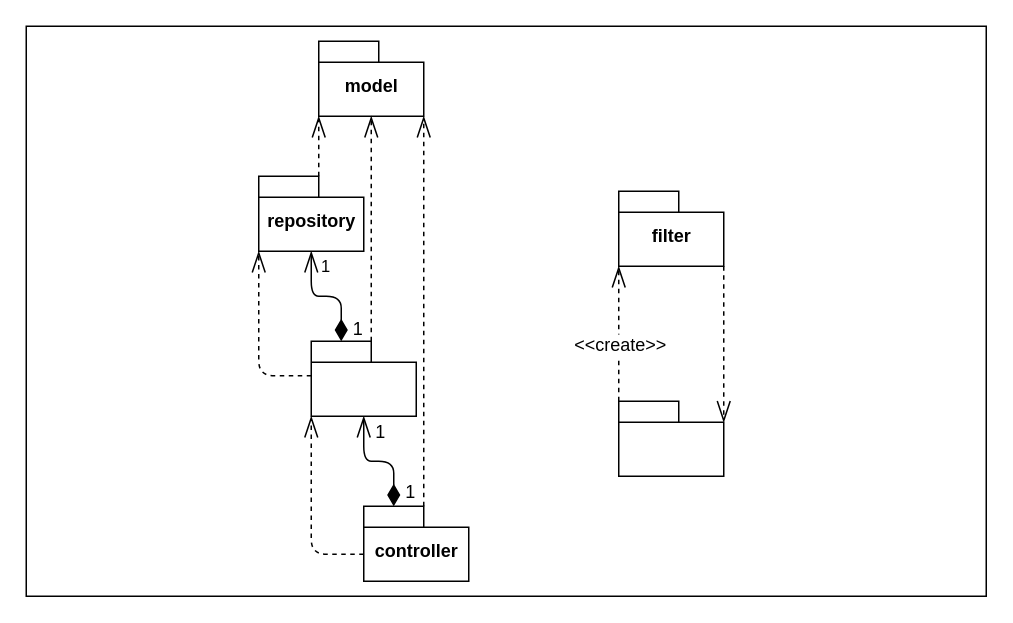
This 1013x623 diagram has some shape labels left out. The shapes that lost their labels are listed below. From the top down, each one's box as (x1, y1, x2, y2) in pixels, then its label:
(310, 340, 416, 416): service
(617, 400, 724, 476): config
